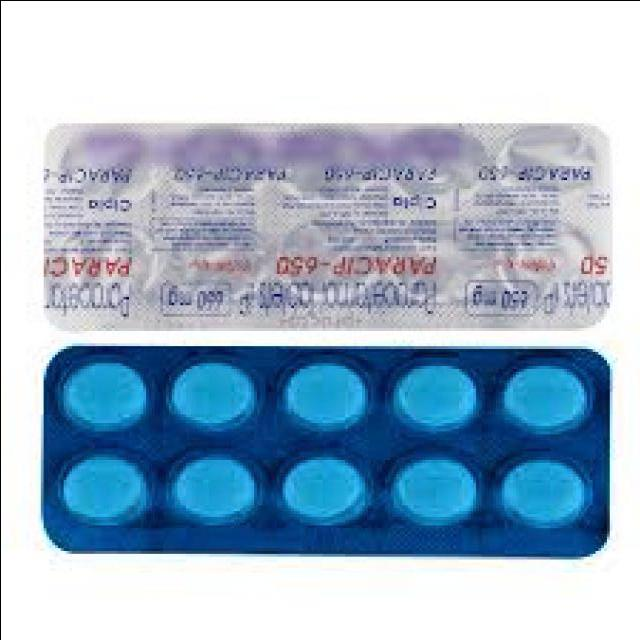authentic: (34, 332, 622, 570), (32, 115, 628, 339)
